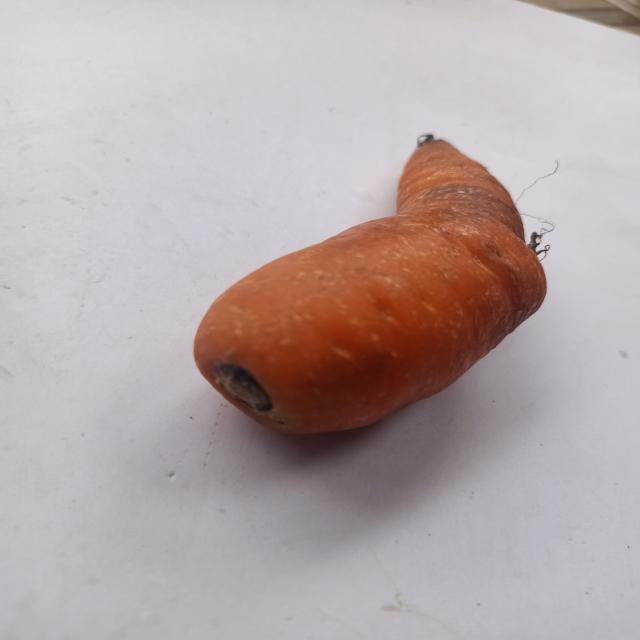Carrot: (175, 101, 558, 470)
